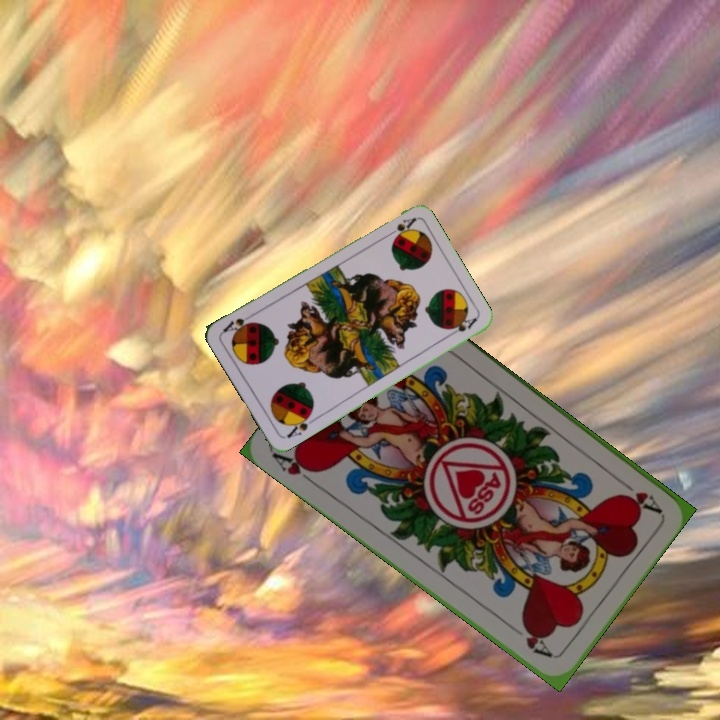HA: (612, 473, 663, 516), (268, 448, 321, 489)
SA: (381, 213, 418, 240), (283, 409, 314, 441)
